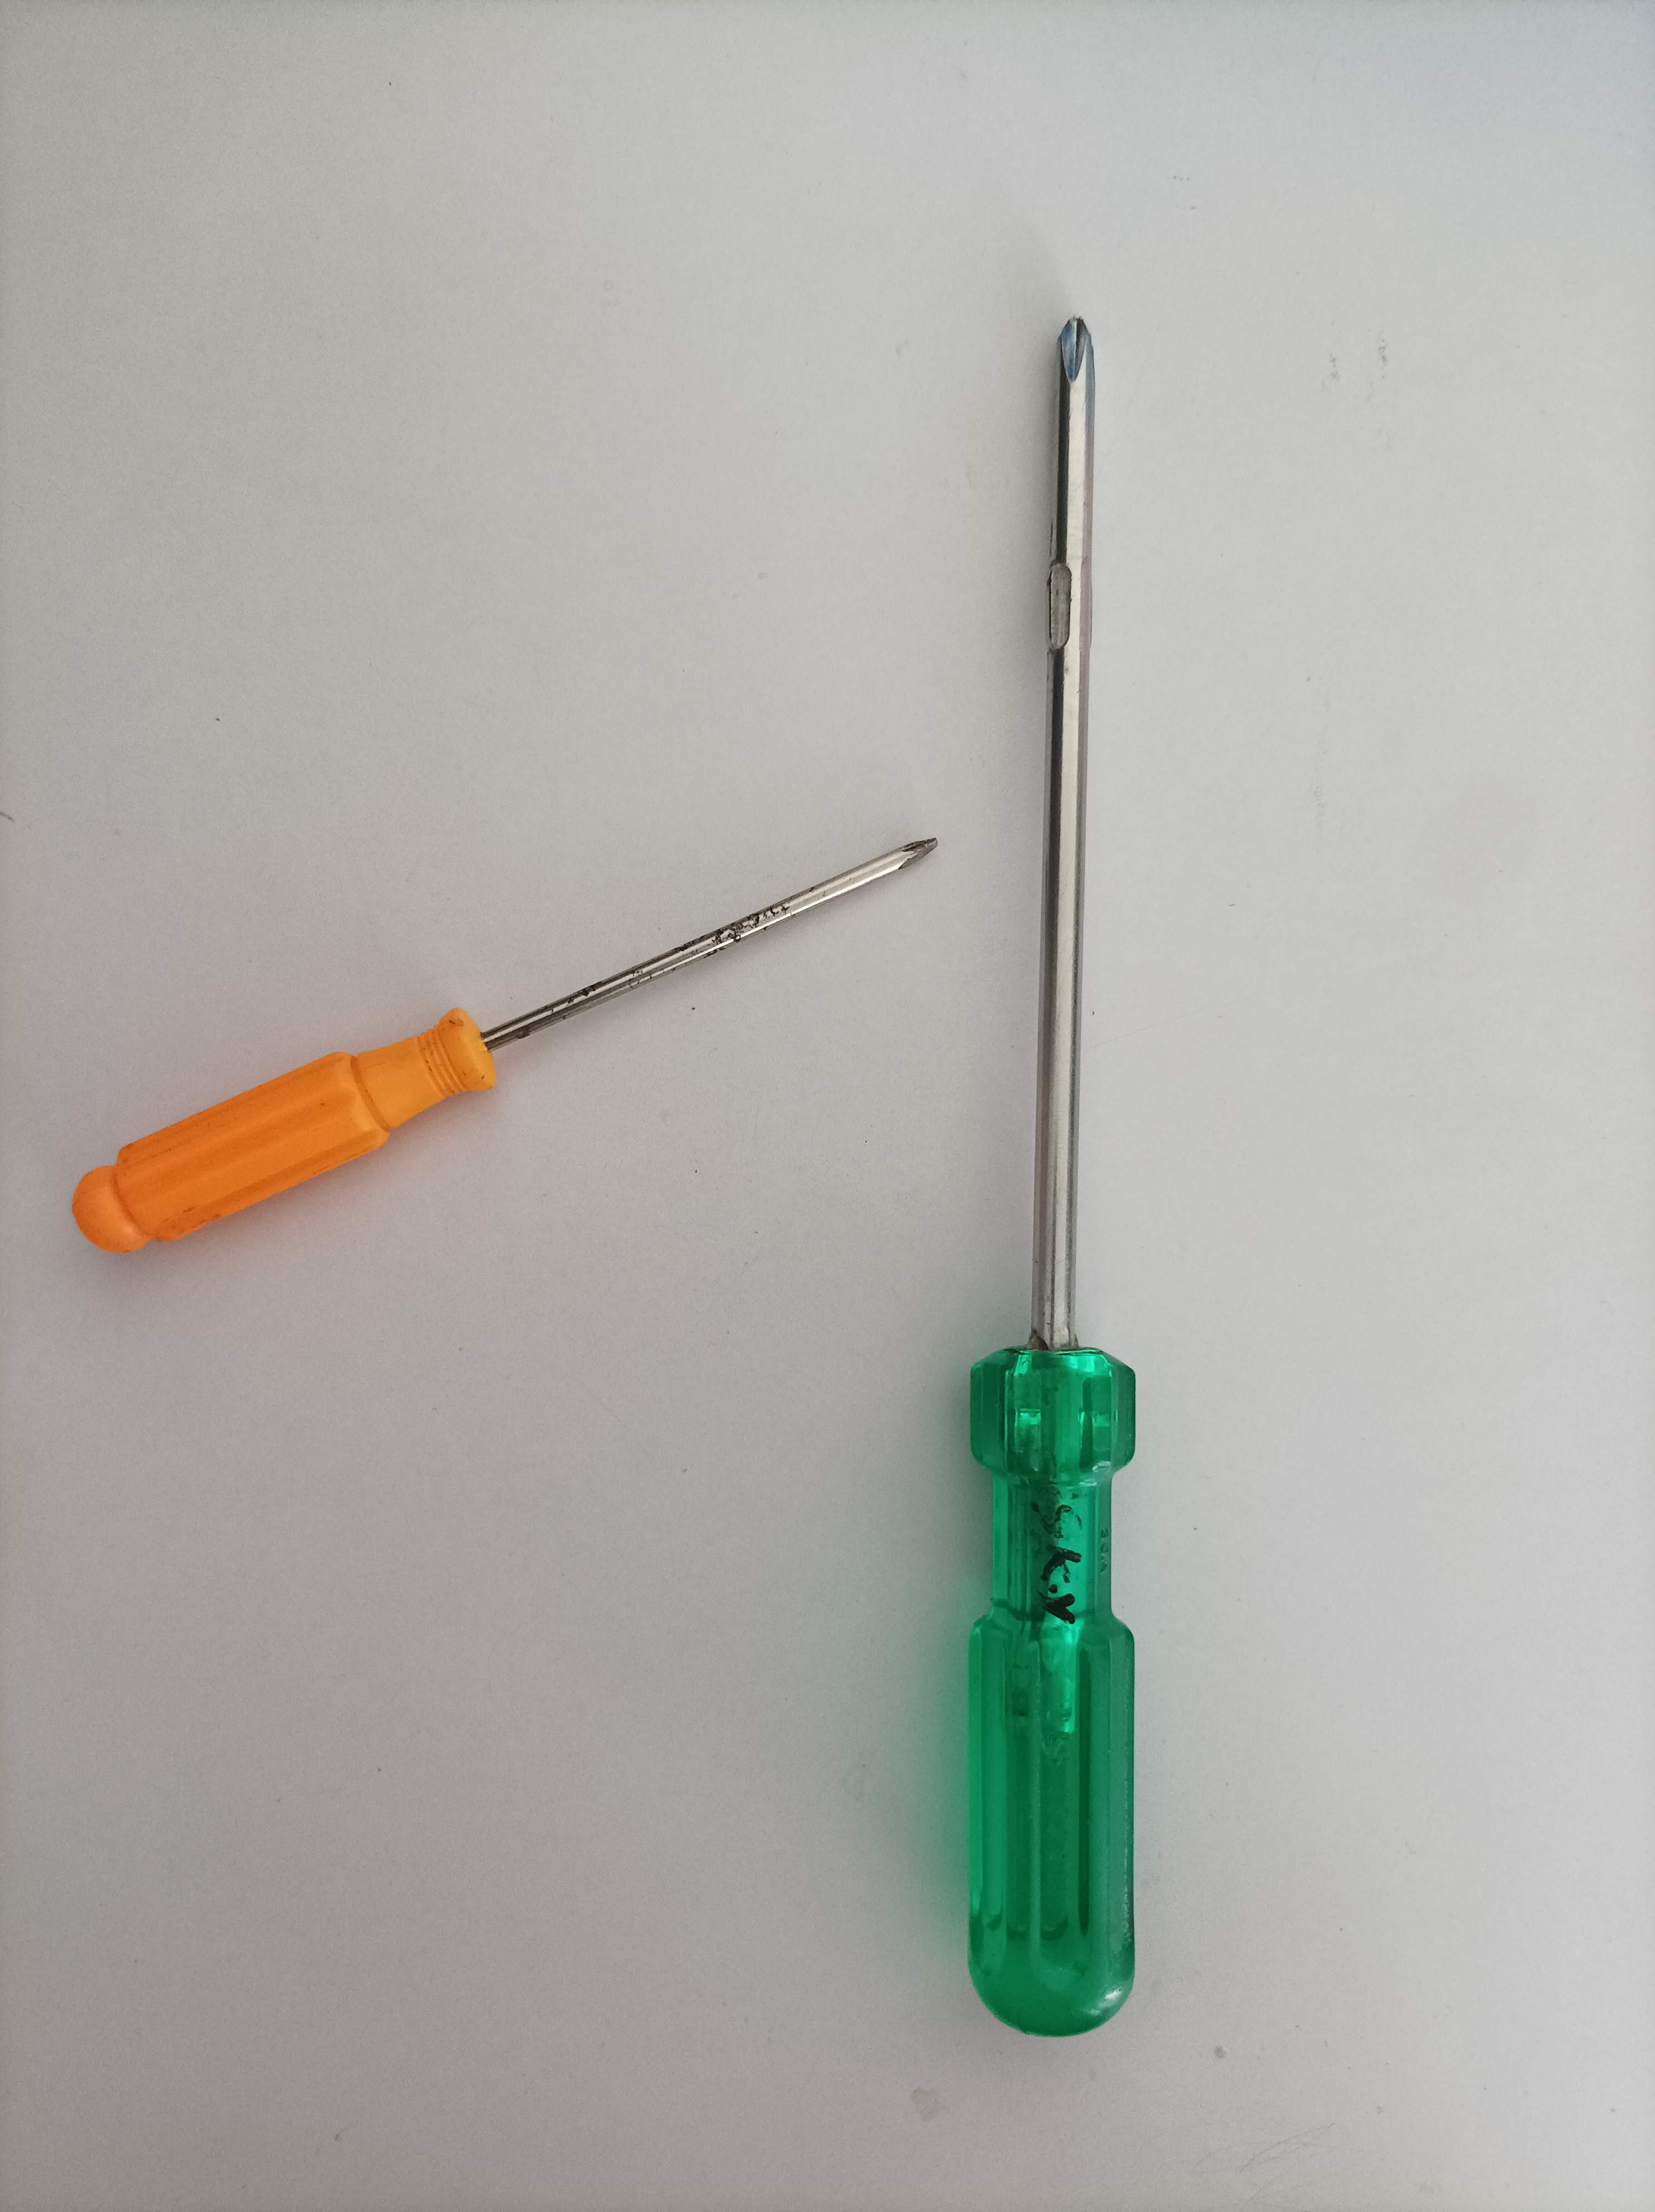screwdriver: (56, 817, 944, 1274), (953, 301, 1151, 2052)
